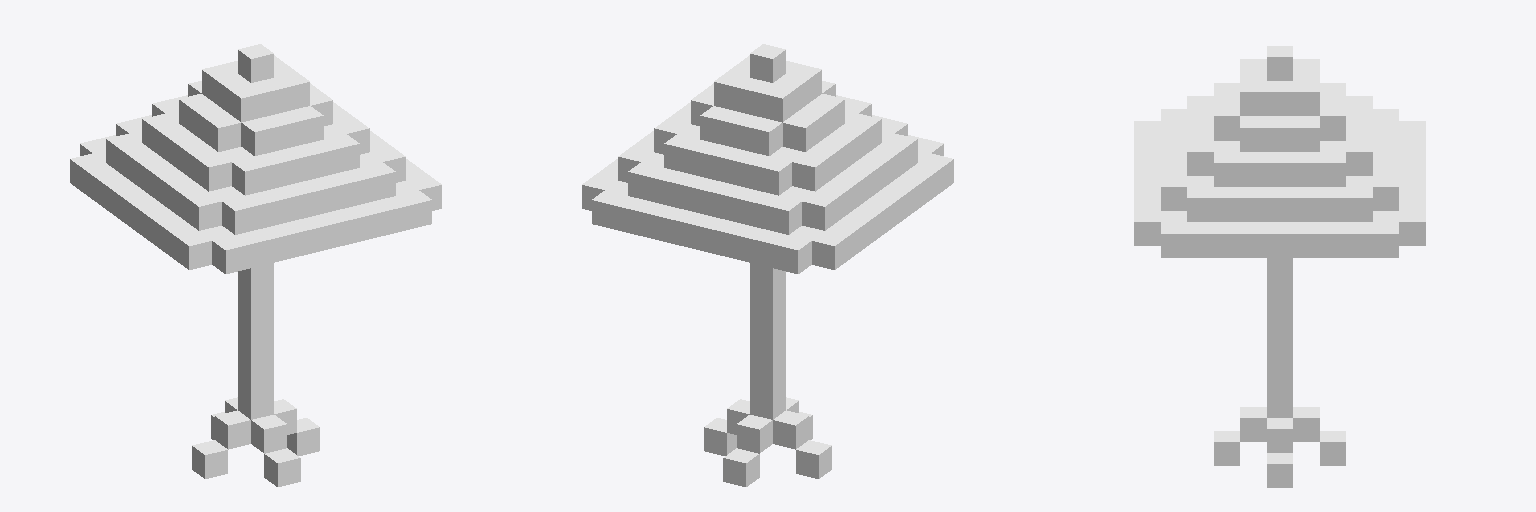
Rendered from lamp_table_Green_yellow.obj.
3 renders of one model, left to right at view 1: azimuth 30°, elevation 25°; view 2: azimuth 150°, elevation 25°; view 3: azimuth 270°, elevation 25°, orthographic.
Parts seen in each view (by area): view 1: lamp_table_Green_yellow; view 2: lamp_table_Green_yellow; view 3: lamp_table_Green_yellow.
Boxes of the visible parts, <box> form: lamp_table_Green_yellow: <box>70,44,441,486</box>; lamp_table_Green_yellow: <box>582,44,953,486</box>; lamp_table_Green_yellow: <box>1134,46,1425,487</box>.
Bounding box in the file's own units: 11 × 17 × 11.